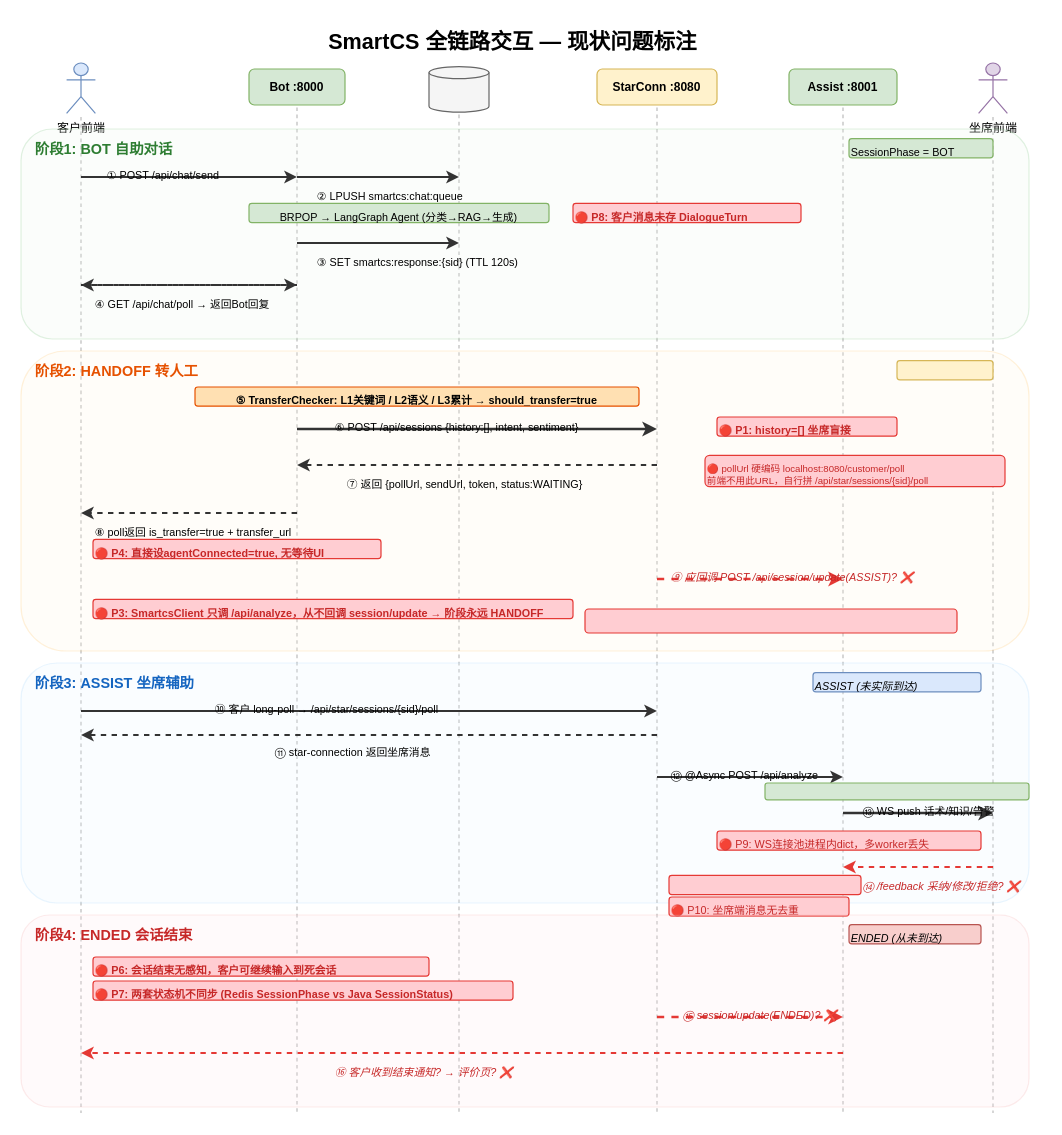
The diagram is 1062 pixels wide and 1135 high, and some of its shapes have lost their labels. The shapes that lost their labels are listed below. From the top down, each one's centre as x and y in pixels, then its label:
At (458,88): "Redis".
At (944,369): "HANDOFF".
At (770,620): "🔴 会话ID不映射: SmartCS sid ≠ StarConn sid，WS推送可能找不到连接".
At (896,791): "分类→4路并行(话术/知识/告警/营销)→仲裁→fusion".
At (764,884): "🔴 P5: 反馈按钮前端未实现".
